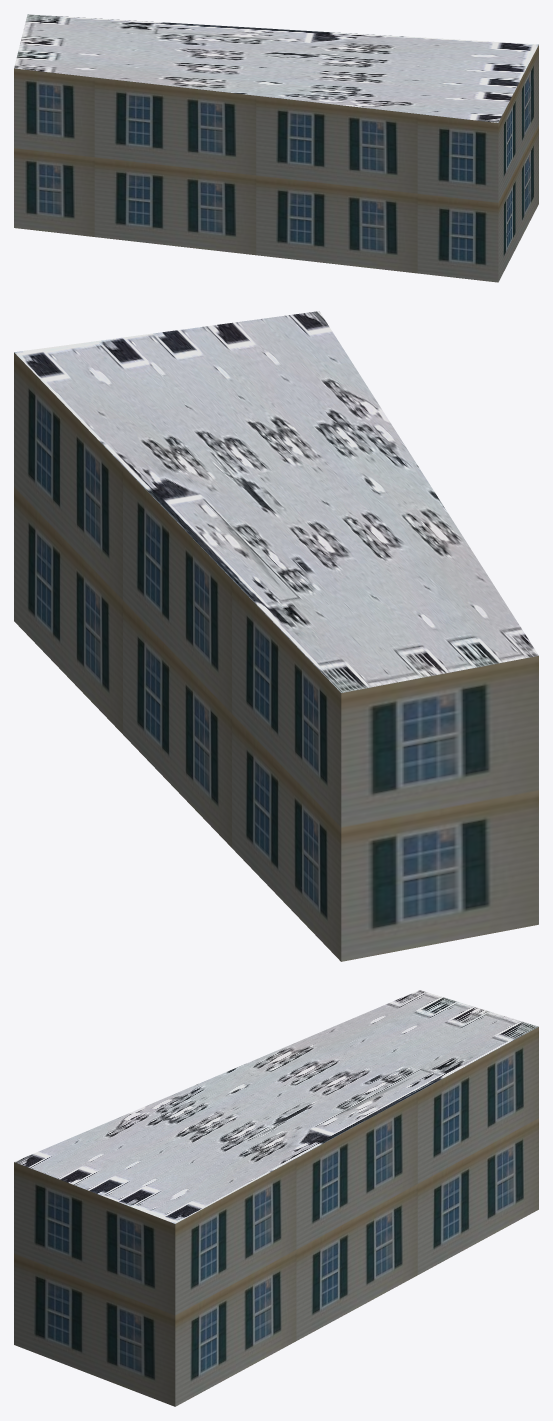
Rendered from ResTex__4085.fbx.
3 renders of one model, top to bottom at view 1: azimuth 30°, elevation 25°; view 2: azimuth 150°, elevation 25°; view 3: azimuth 270°, elevation 25°, orthographic. The views are drawn at different scales.
Parts seen in each view (by area): view 1: CityEngineMaterial_7_m, CityEngineMaterial_m; view 2: CityEngineMaterial_7_m, CityEngineMaterial_m; view 3: CityEngineMaterial_7_m, CityEngineMaterial_m.
Part boxes in pixels (x1=…): CityEngineMaterial_7_m: x1=14, y1=45, x2=538, y2=282; CityEngineMaterial_m: x1=14, y1=14, x2=538, y2=122; CityEngineMaterial_7_m: x1=14, y1=352, x2=538, y2=961; CityEngineMaterial_m: x1=14, y1=311, x2=538, y2=692; CityEngineMaterial_7_m: x1=14, y1=1027, x2=538, y2=1406; CityEngineMaterial_m: x1=14, y1=990, x2=538, y2=1223.
Size of the model in its own units: 16.46 by 6 by 15.61.
Materials: 2 (2 with a texture image).
